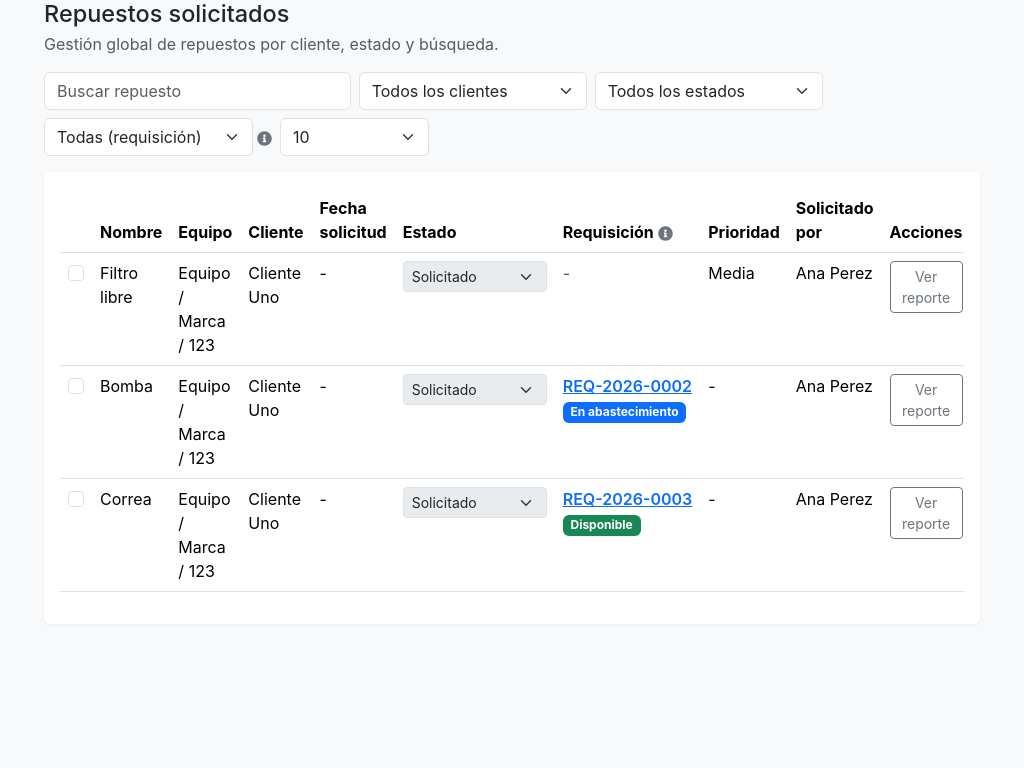
Test: RepuestosSolicitadosPage (module on) › offers Hacer requisición for unlinked rows and opens the prefilled modal
This screenshot has width=1024, height=768.
Click the checkbox in the row of "Media": (76, 273) [68,265,84,281]
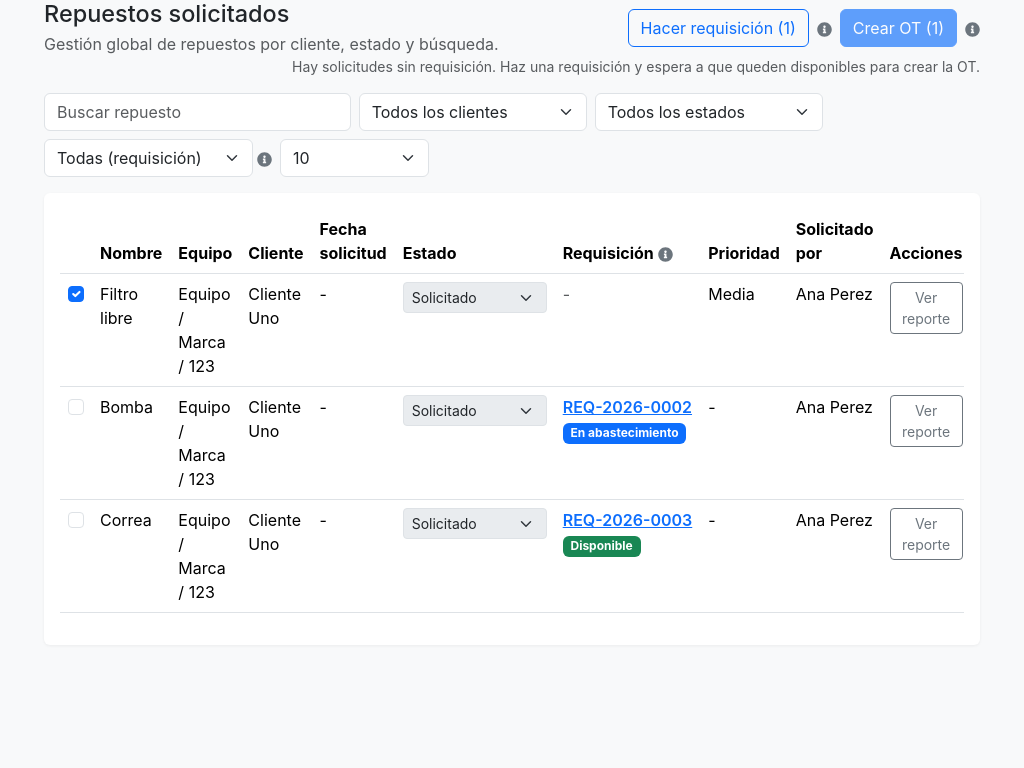
Now the button "Hacer requisición (1)" is enabled
Click the button "Hacer requisición (1)": (718, 28) [628,9,809,47]
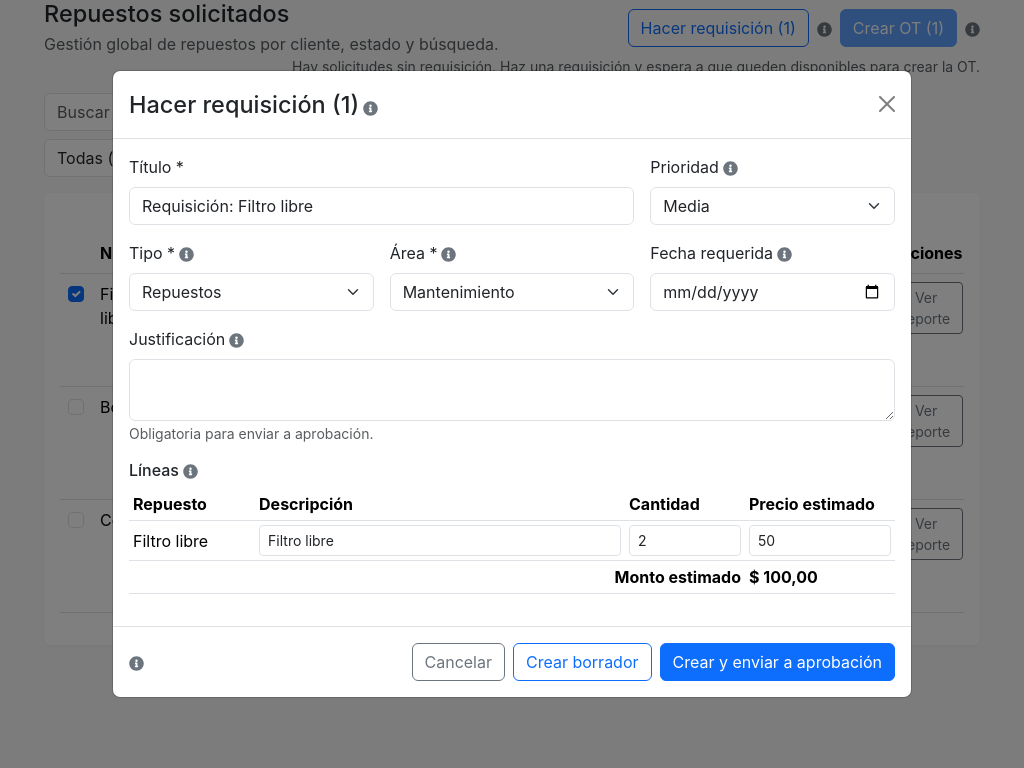
Now the field labelled "Título *" holds "Requisición: Filtro libre", box [129,187,634,225]
Now the number field named "Cantidad de Filtro libre" holds "2", box [629,525,741,556]
